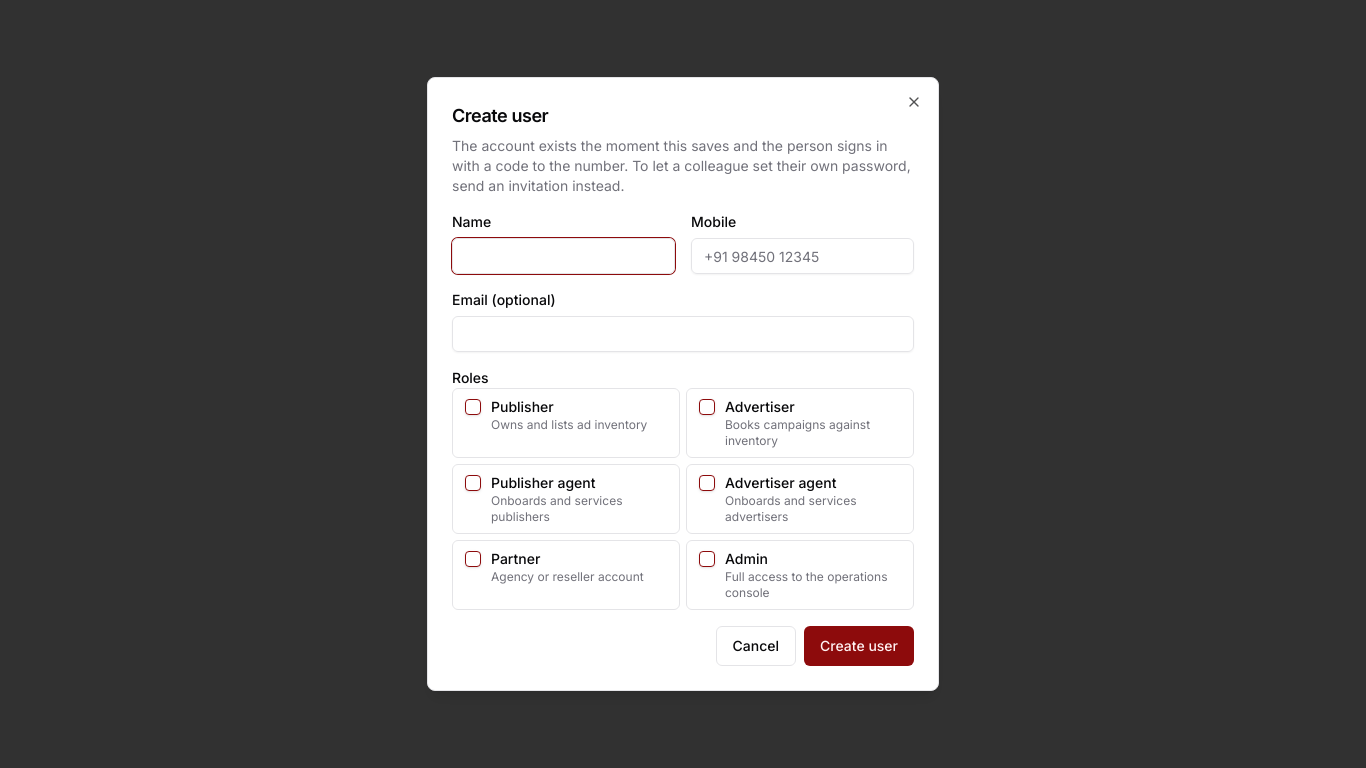
CreateUserDialog › prints a taken mobile as whose it is
Type "+919900000001" into the field labelled "Mobile" at coordinates (802, 256), box [691,238,914,274]
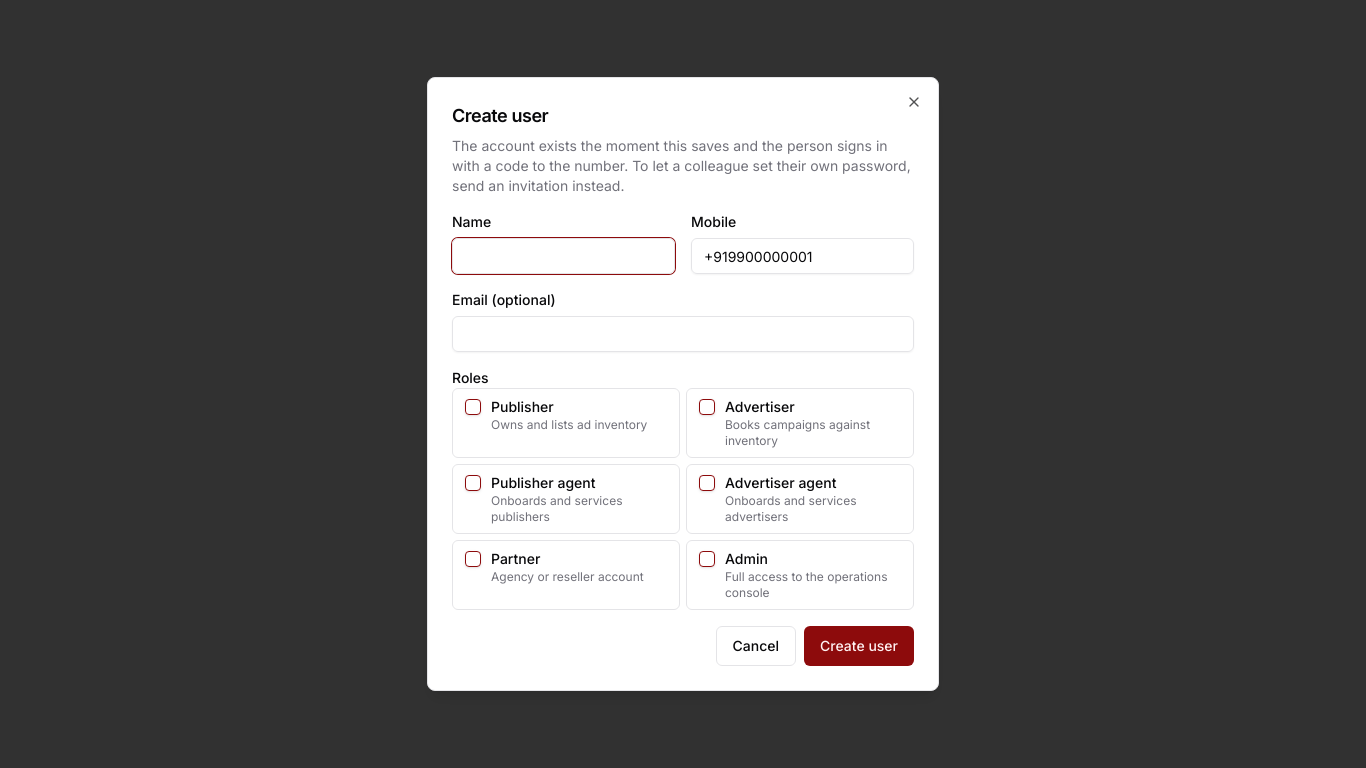
Click the checkbox named "publisher" at coordinates (473, 407), box [465,399,481,415]
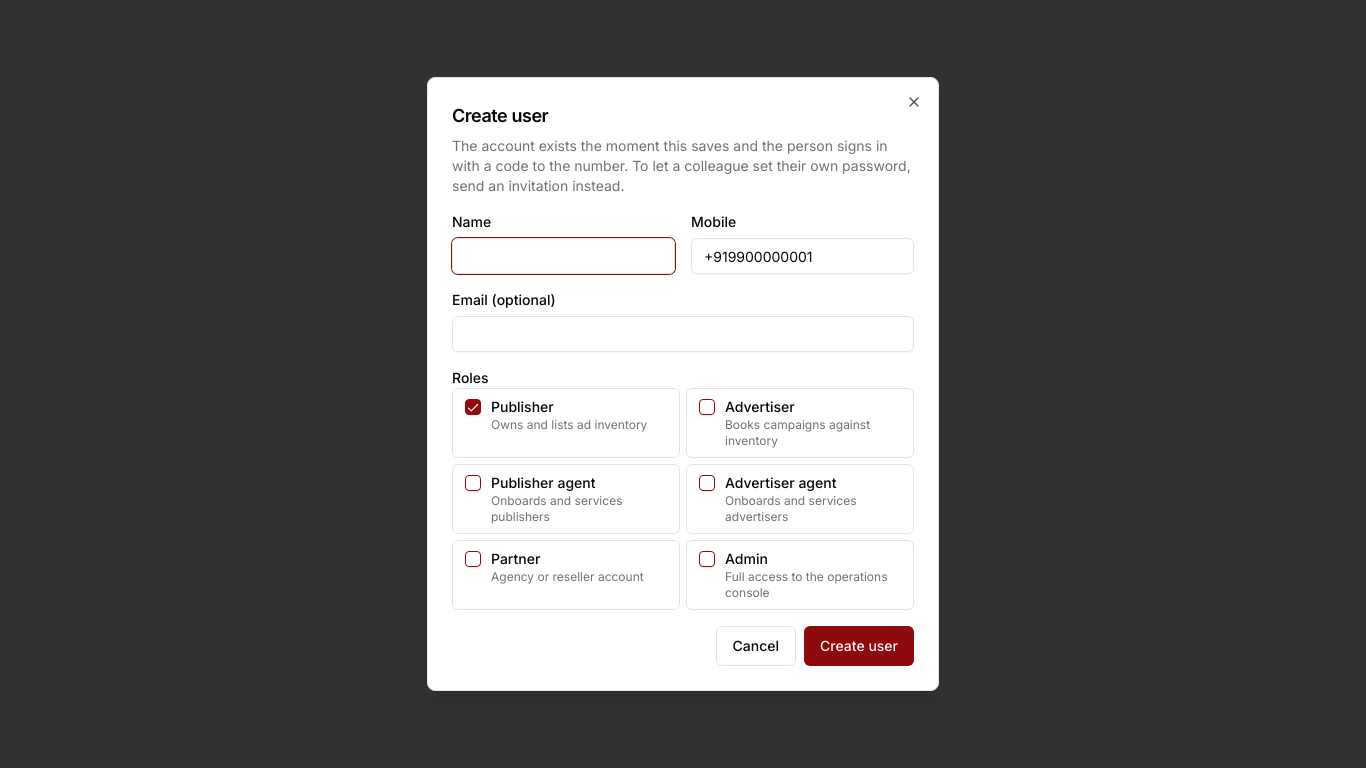
Click the button "Create user" at coordinates (859, 646), box [804,626,914,666]
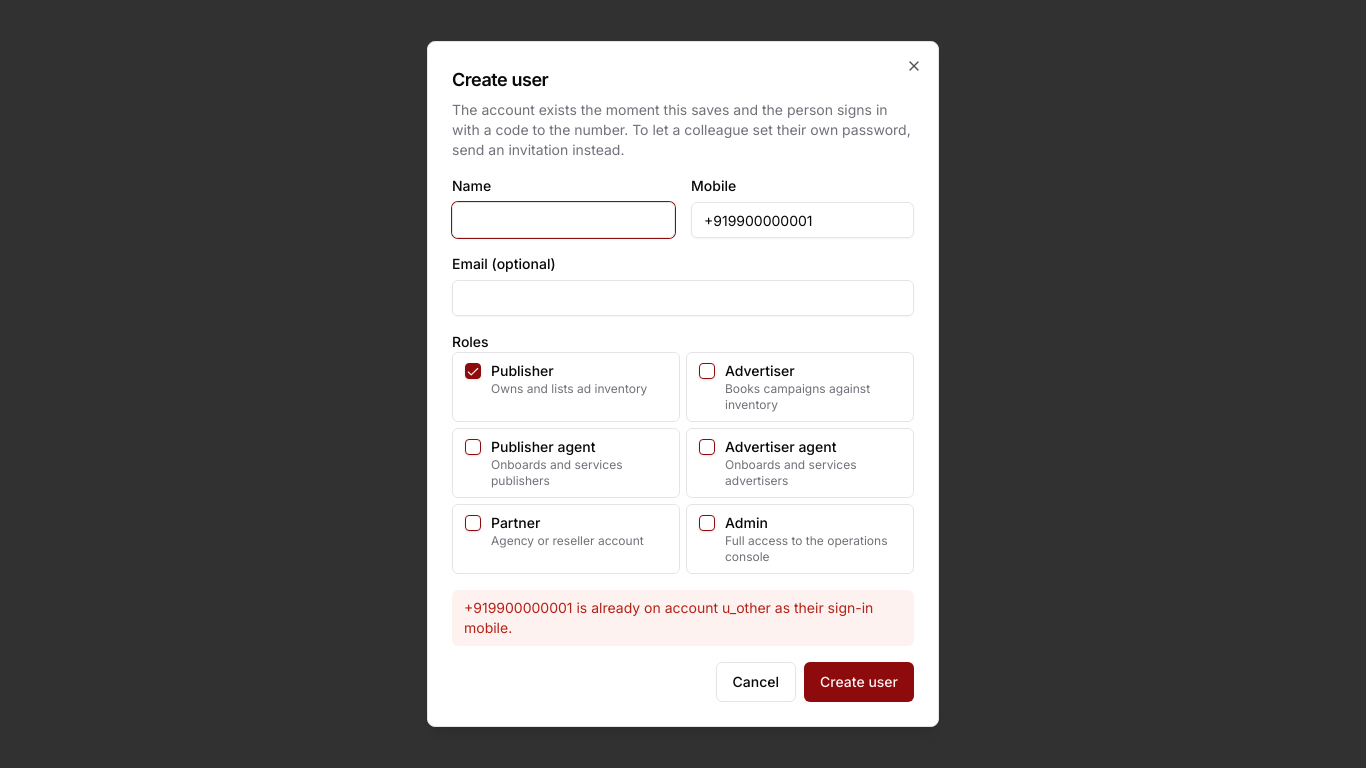
Result: the message reads "+919900000001 is already on account u_other as their sign-in mobile." at [464,599,873,636]
